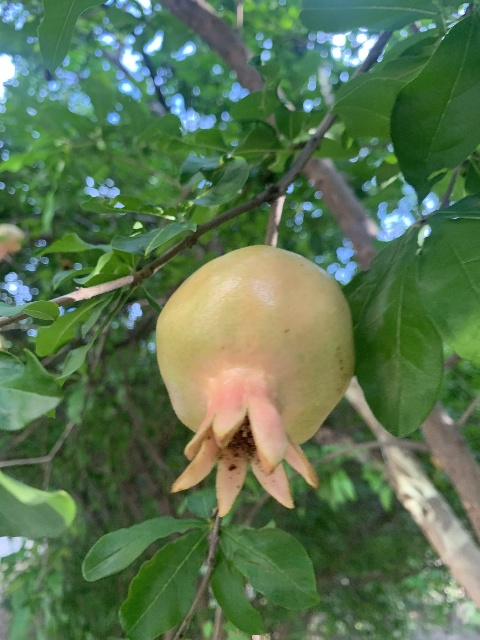mid-growth: (154, 244, 356, 519)
